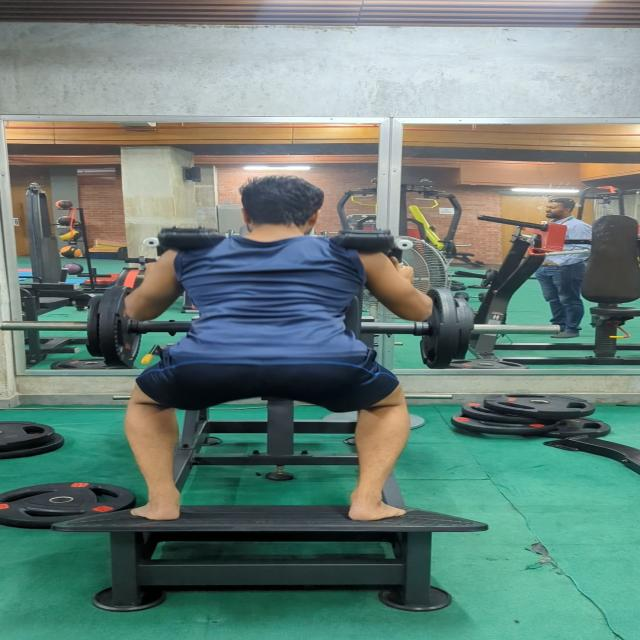Normal_SquatsWithBarbell: (89, 152, 510, 528)
